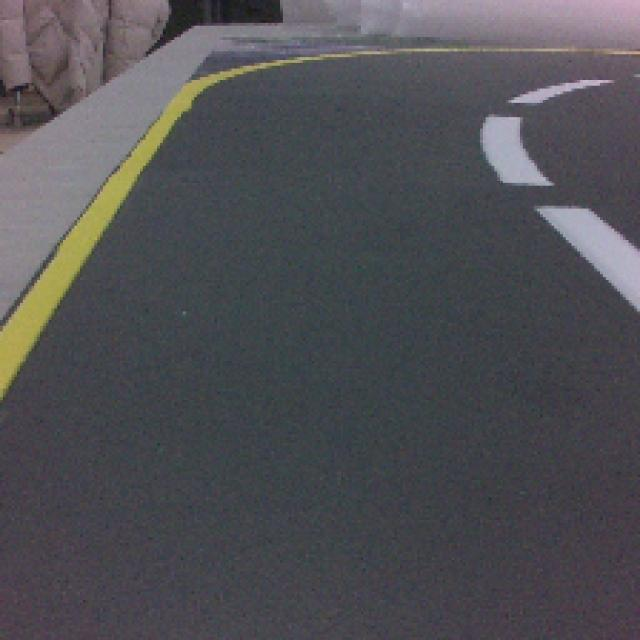Road: (0, 204, 636, 424)
